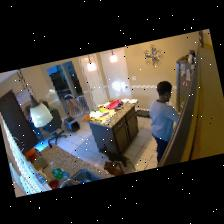person: (150, 81, 179, 164), (64, 94, 83, 115)
